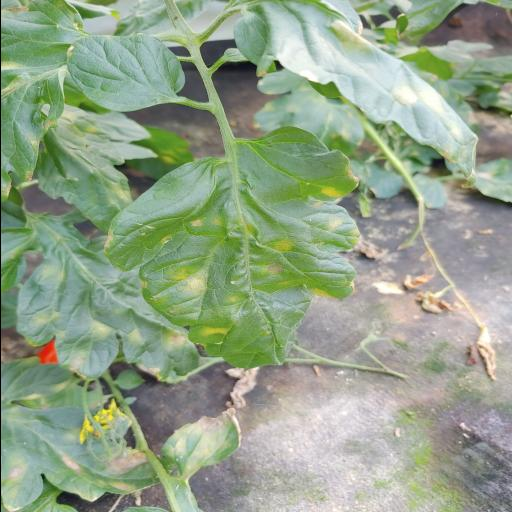Leaf Mold: (102, 128, 360, 370), (229, 0, 479, 183), (14, 212, 200, 384), (0, 357, 160, 512)
